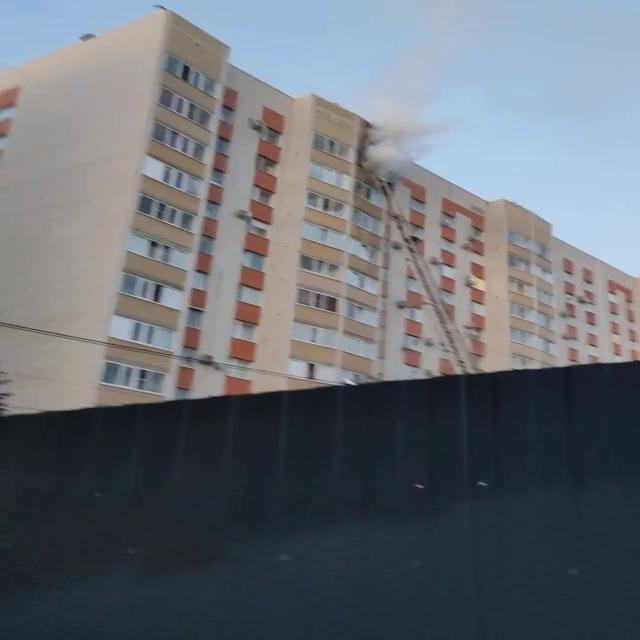Smoke: (358, 48, 449, 180)
